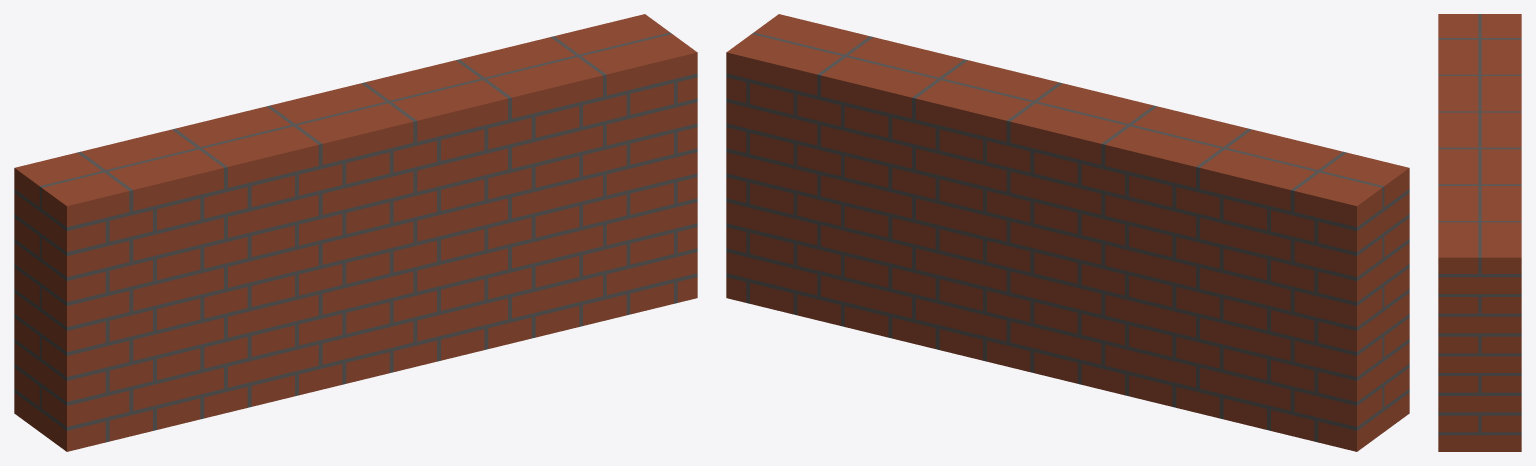
Rendered from brick-wall-bond-names.glb.
3 views of the same model, side by side, from view 1: azimuth 30°, elevation 25°; view 2: azimuth 150°, elevation 25°; view 3: azimuth 270°, elevation 25° (orthographic). The views are drawn at different scales.
Visible parts, largest first — view 1: 无知识卡片, 顺砖, 砂浆, 丁砖; view 2: 无知识卡片, 顺砖, 砂浆, 丁砖; view 3: 顺砖, 无知识卡片, 砂浆, 丁砖.
Boxes of the visible parts, box(x1,y1,x2,y2) form: 无知识卡片: box(14, 102, 697, 451); 顺砖: box(14, 14, 697, 226); 砂浆: box(14, 32, 697, 442); 丁砖: box(14, 77, 697, 251); 无知识卡片: box(726, 102, 1409, 451); 顺砖: box(726, 14, 1409, 226); 砂浆: box(726, 32, 1409, 442); 丁砖: box(726, 77, 1409, 251); 顺砖: box(1438, 14, 1521, 273); 无知识卡片: box(1438, 297, 1521, 451); 砂浆: box(1438, 14, 1521, 435); 丁砖: box(1438, 277, 1521, 293).
Bounding box in the file's own units: 1.66 × 0.62 × 0.24.
